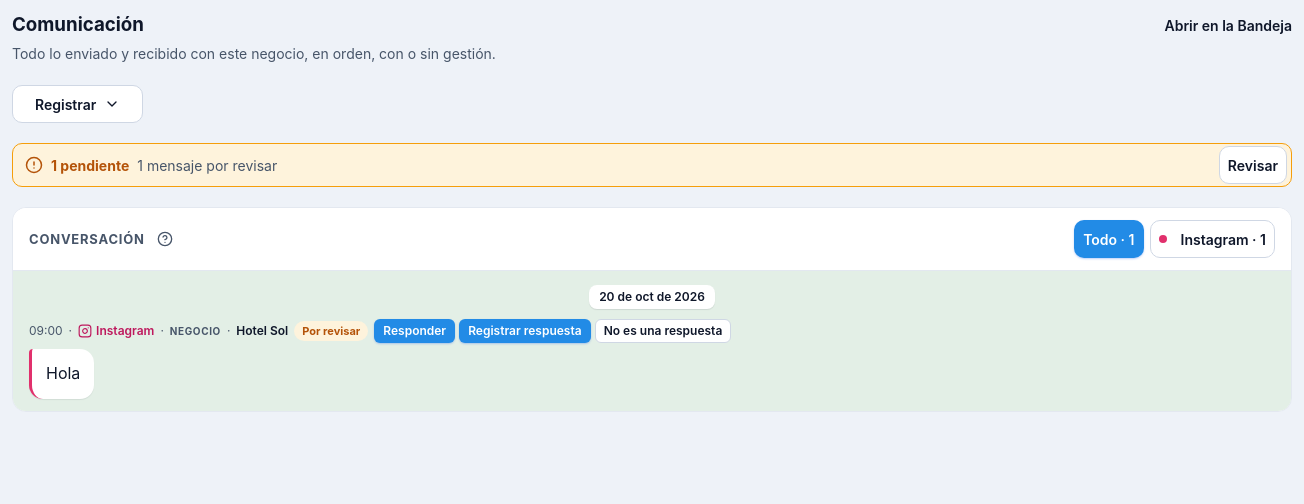
CommunicationPanel inbound messages › labels incoming Instagram messages explicitly
Click the button "Revisar" at (1253, 166), box [1219,146,1287,184]
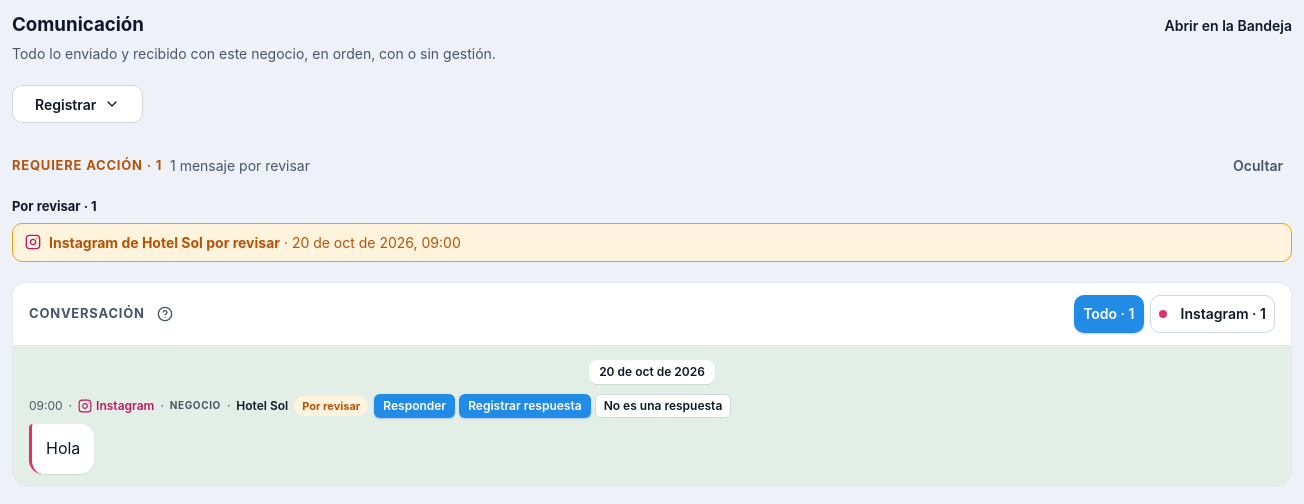
Expected: the element named "Instagram recibido de Hotel Sol" is shown, [29,396,368,474]
Expected: the button "Instagram de Hotel Sol por revisar" is shown, [12,223,1292,262]
